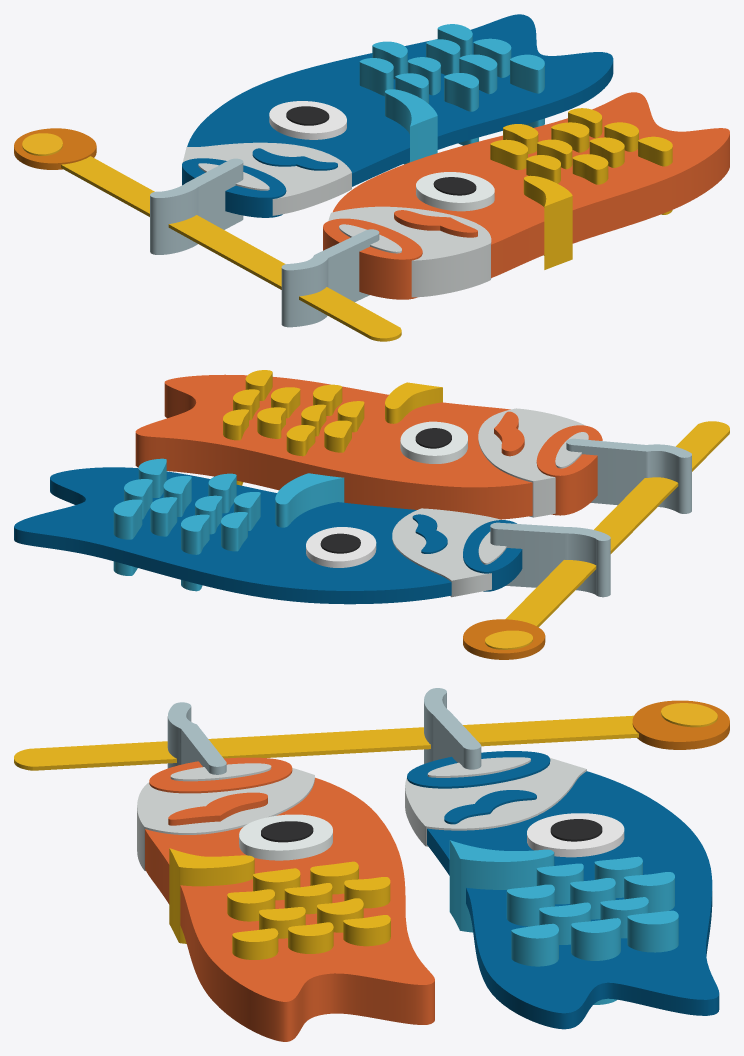
Rendered from emoji_u1f38f.glb.
The picture shows the model from 3 angles, top to bottom: view 1: azimuth 30°, elevation 25°; view 2: azimuth 150°, elevation 25°; view 3: azimuth 270°, elevation 25°; orthographic projection. The views are drawn at different scales.
Parts seen in each view (by area): view 1: emoji_u1f38f; view 2: emoji_u1f38f; view 3: emoji_u1f38f.
Part boxes in pixels (<box>): emoji_u1f38f: <box>14,14,729,341</box>; emoji_u1f38f: <box>14,370,729,659</box>; emoji_u1f38f: <box>14,688,729,1041</box>.
Bounding box in the file's own units: 0.034 × 0.0038 × 0.0324.
